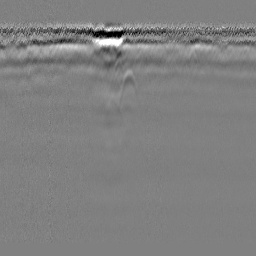cavity: (118, 68, 138, 109)
